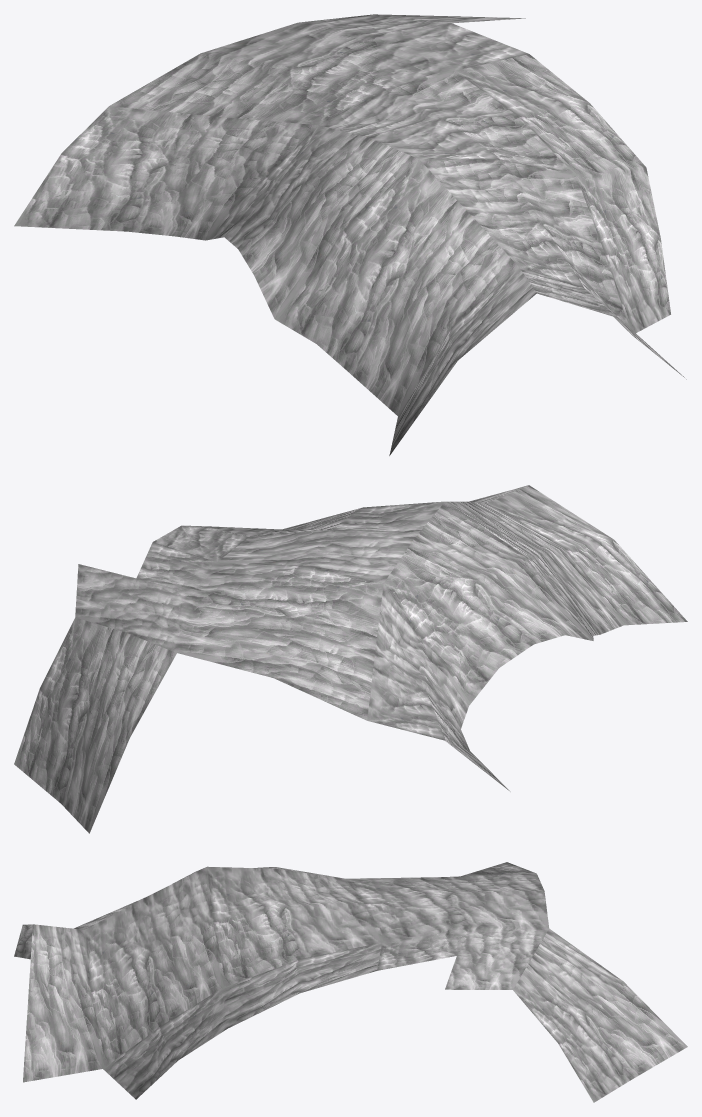
Rendered from SWORDLIGHT20_PS-AREA03_49.fbx.
The picture shows the model from 3 angles, top to bottom: view 1: azimuth 30°, elevation 25°; view 2: azimuth 150°, elevation 25°; view 3: azimuth 270°, elevation 25°; orthographic projection. The views are drawn at different scales.
Visible parts, largest first — view 1: SWORDLIGHT20_PS-AREA03_49; view 2: SWORDLIGHT20_PS-AREA03_49; view 3: SWORDLIGHT20_PS-AREA03_49.
Part boxes in pixels (x1,y1,x2,y2): SWORDLIGHT20_PS-AREA03_49: (14, 14, 686, 455); SWORDLIGHT20_PS-AREA03_49: (14, 485, 687, 833); SWORDLIGHT20_PS-AREA03_49: (14, 862, 687, 1102).
Bounding box in the file's own units: 251603 × 88383 × 358228.
Materials: 1 (1 with a texture image).
